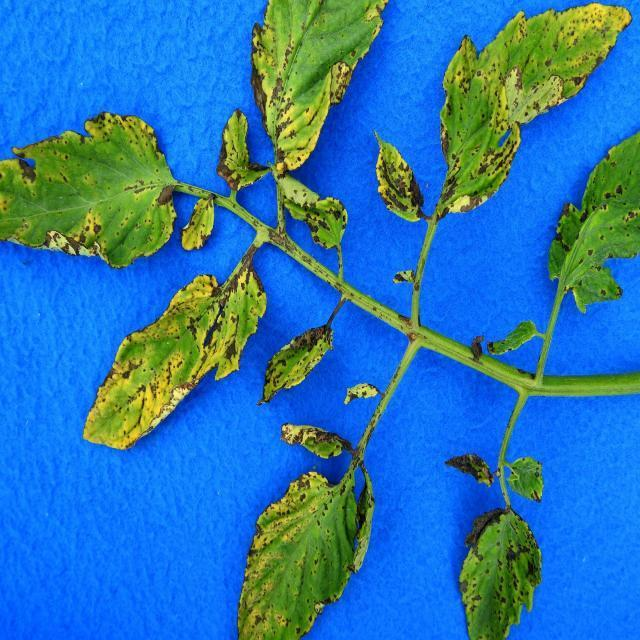Bacterial Spot: (440, 1, 616, 210), (81, 273, 262, 451), (0, 114, 175, 264), (235, 466, 358, 640), (249, 0, 357, 166), (550, 148, 640, 308), (459, 508, 542, 640), (255, 324, 339, 408), (373, 130, 425, 233), (219, 102, 255, 196), (305, 192, 353, 248), (182, 190, 216, 252), (511, 449, 549, 502), (486, 321, 538, 358), (344, 382, 382, 412)
